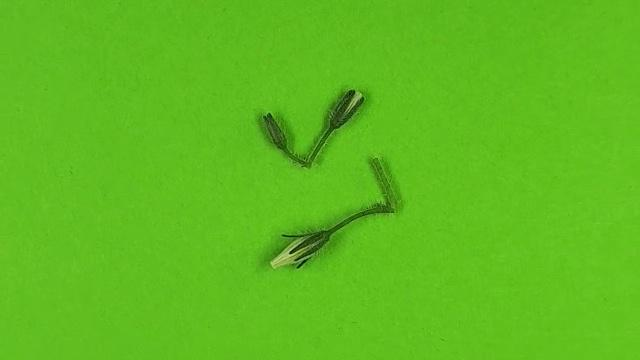Flower Bud: (270, 231, 328, 271), (328, 89, 364, 128), (262, 112, 289, 152)
